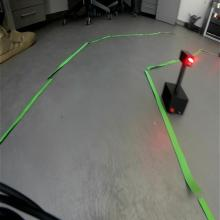red: (180, 49, 196, 68)
